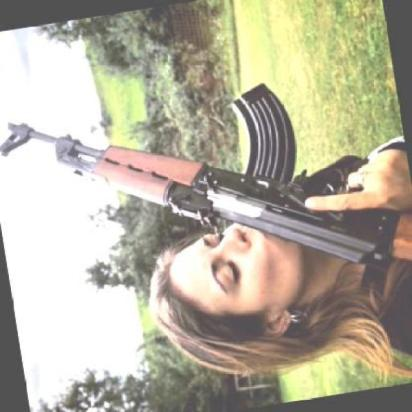Gun: (2, 75, 412, 267)
